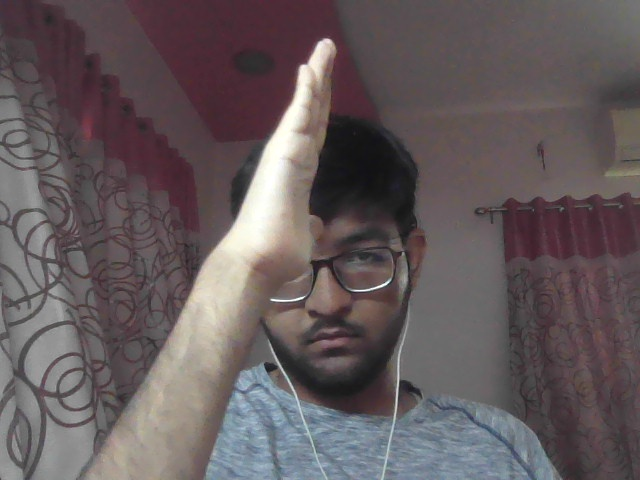પિતા: (202, 30, 369, 303)
